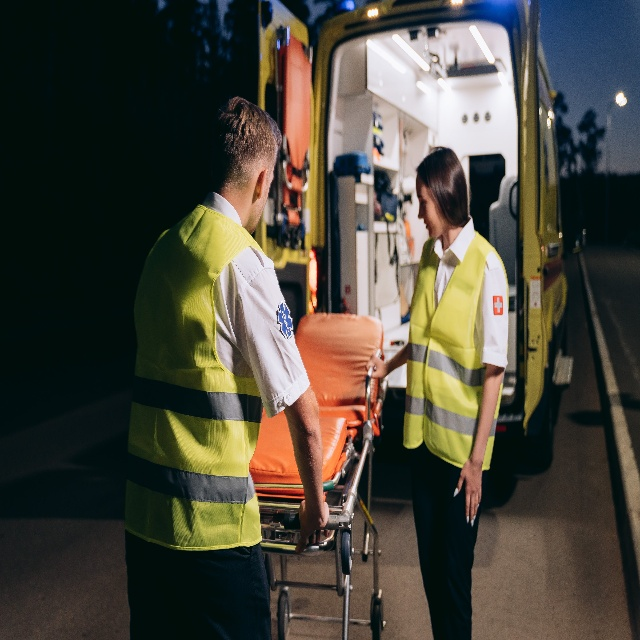Sin_guantes: (451, 461, 485, 525), (295, 495, 332, 552), (364, 351, 389, 379)
